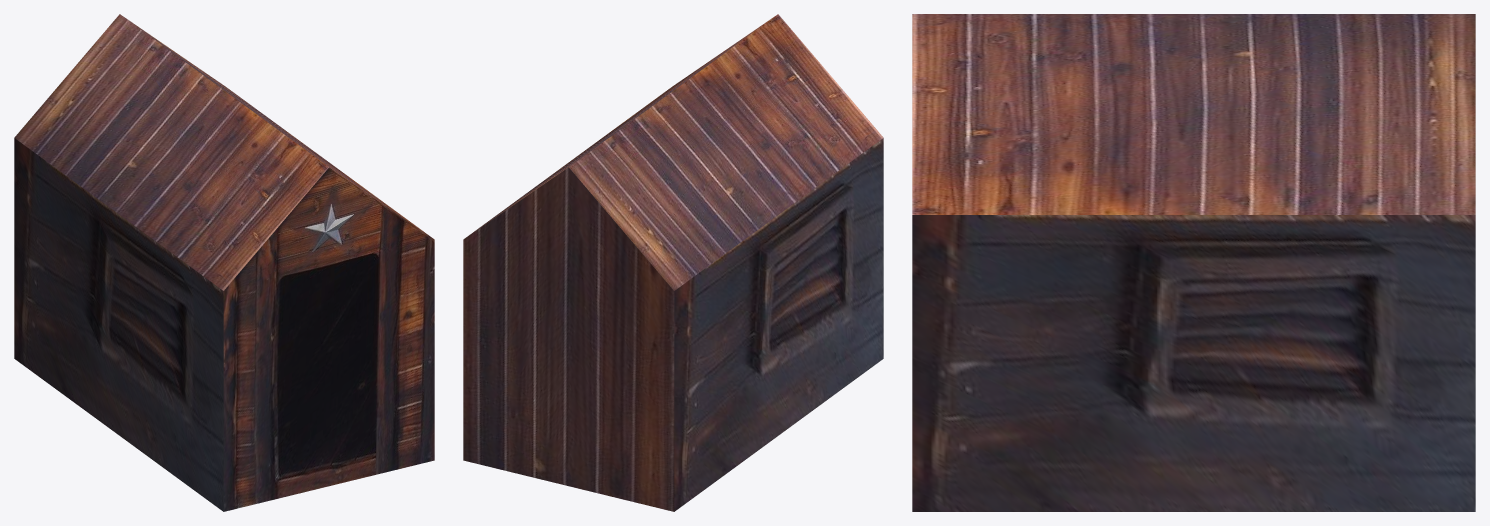
File: geo_Doghouse.fbx
3 views of the same model, side by side, from view 1: azimuth 30°, elevation 25°; view 2: azimuth 150°, elevation 25°; view 3: azimuth 270°, elevation 25° (orthographic). The views are drawn at different scales.
Visible parts, largest first — view 1: geo_Doghouse; view 2: geo_Doghouse; view 3: geo_Doghouse.
Part boxes in pixels (x1,y1,x2,y2): geo_Doghouse: [14, 14, 434, 511]; geo_Doghouse: [463, 14, 883, 511]; geo_Doghouse: [912, 14, 1475, 511].
Size of the model in its own units: 64.84 by 93.63 by 111.
1 material, 1 textured.
